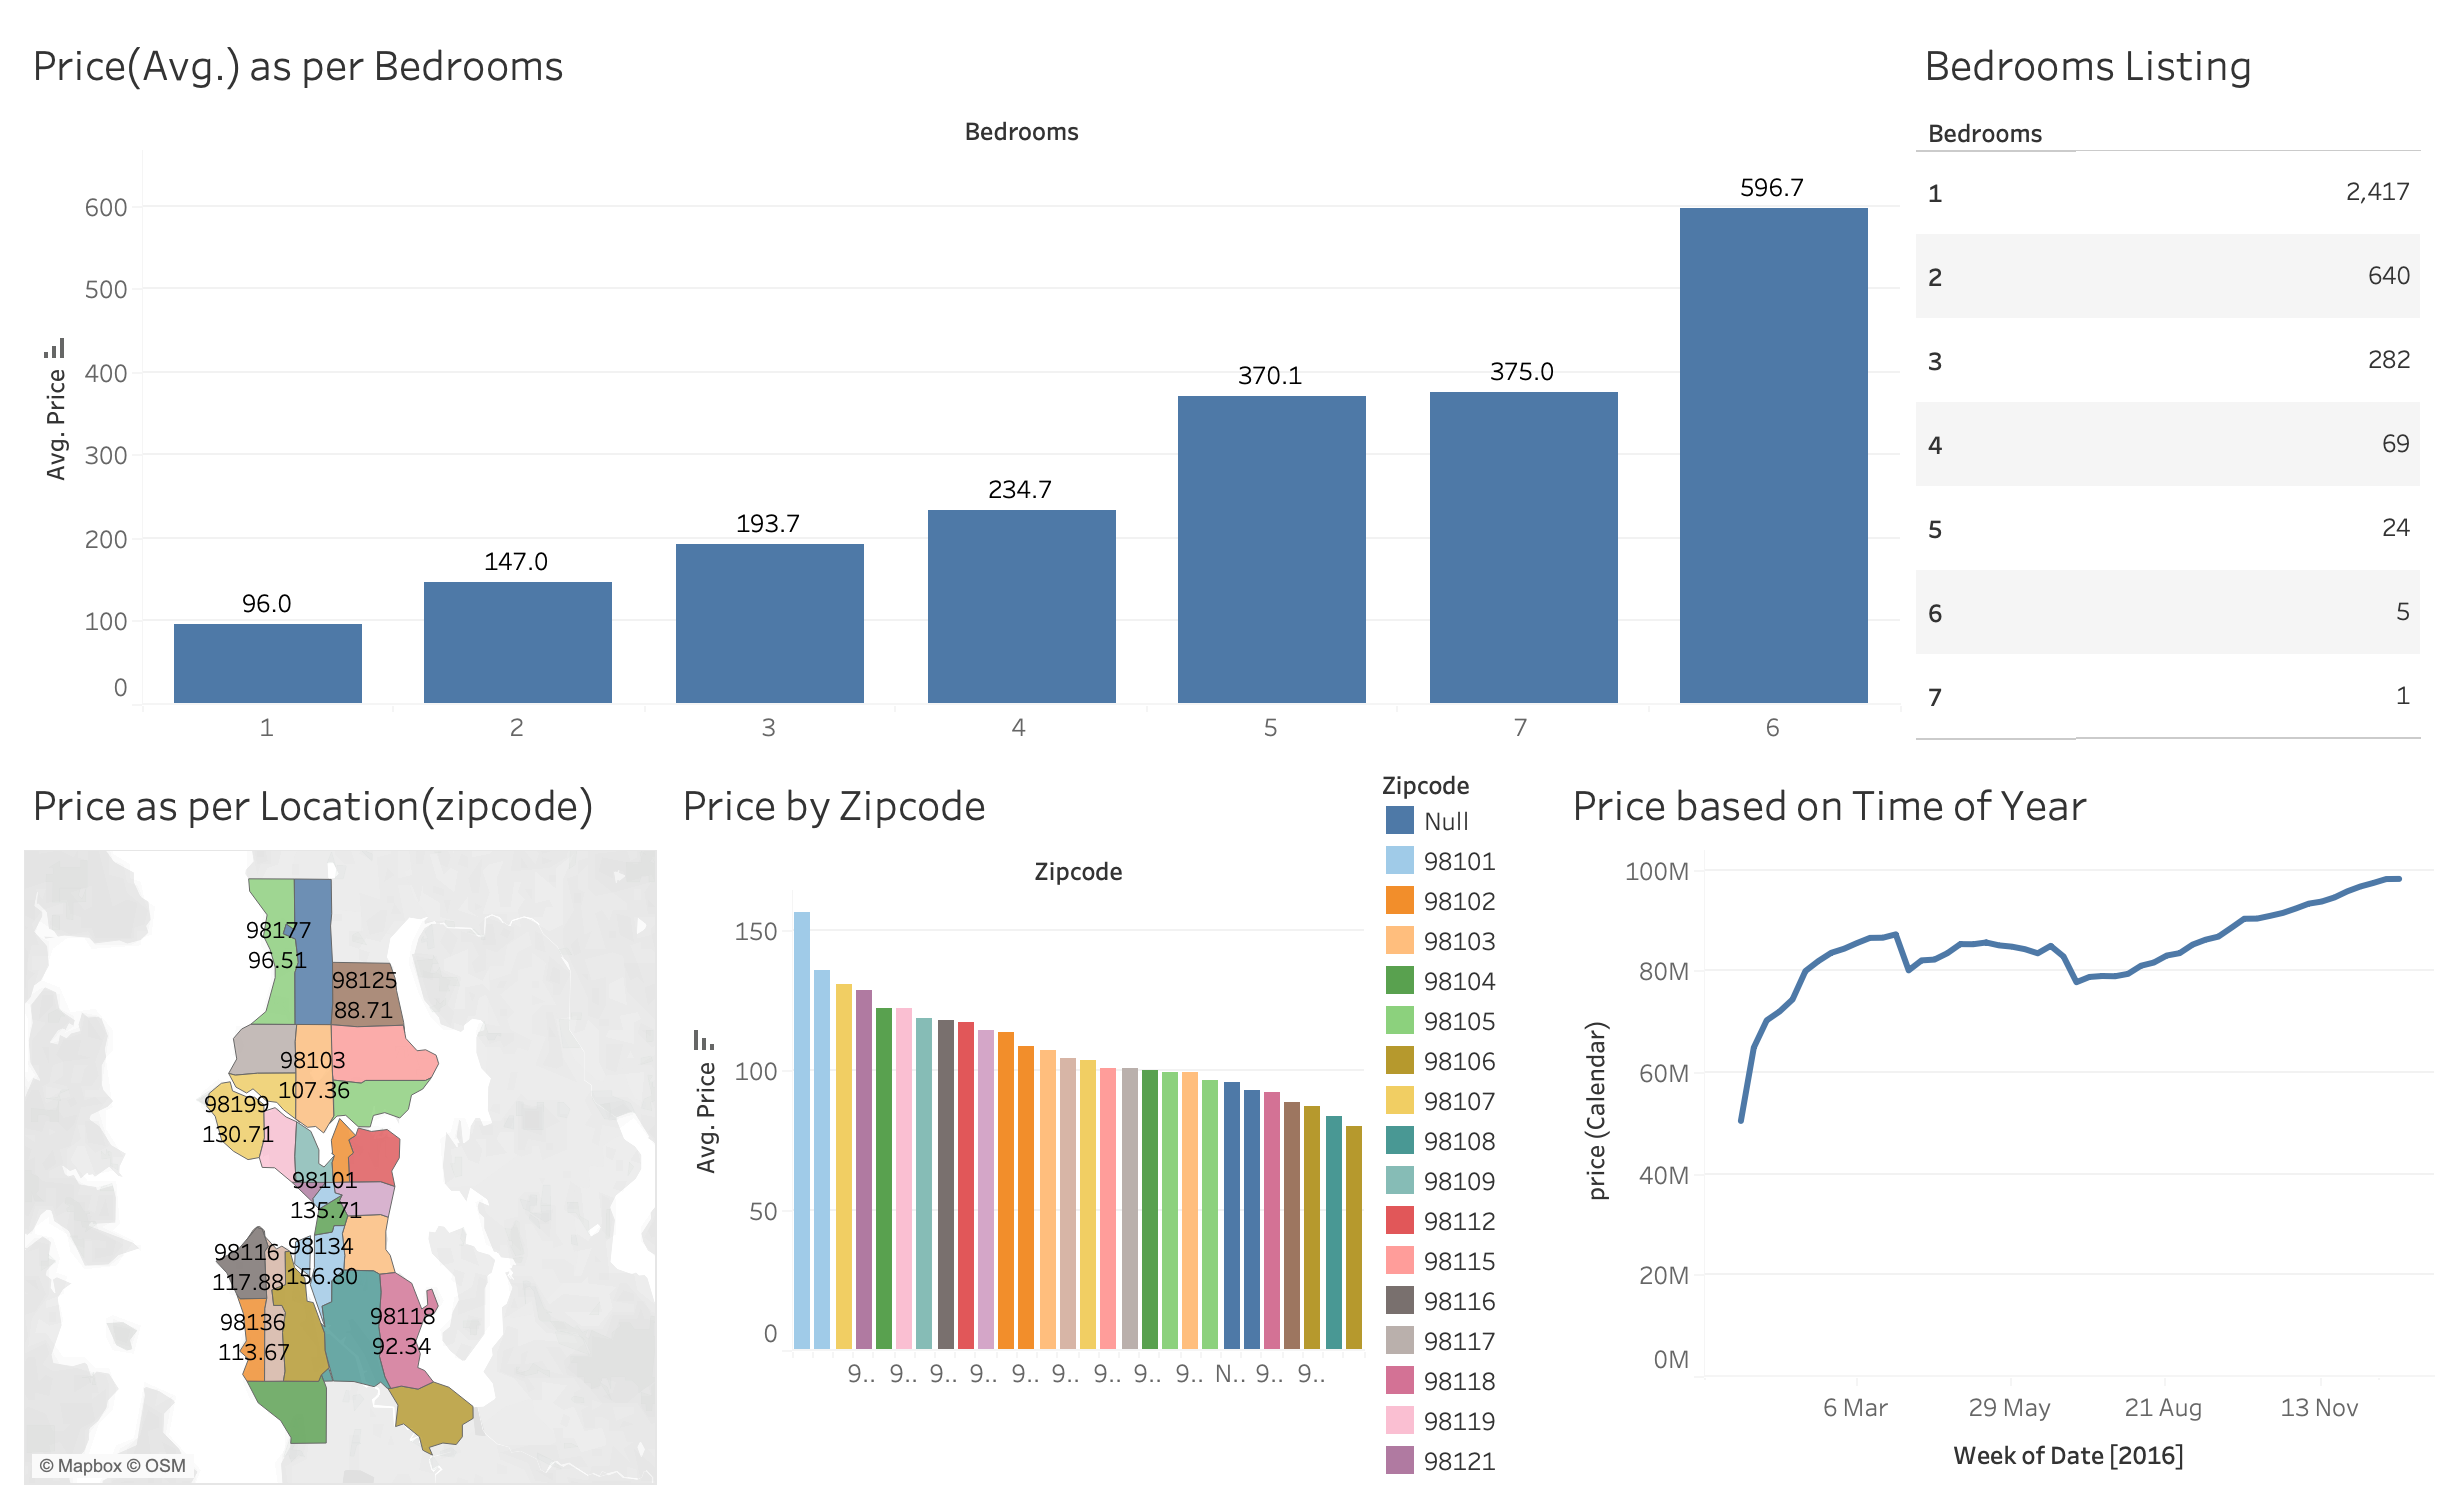

This screenshot's page, from the dashboard's own definition file:
{"tool":"tableau","page":{"name":"Dashboard 1","canvas":[1000,1000],"units":"permille","ordinal":0},"visuals":[{"type":"worksheet","title":"Sheet 4","mark":"Automatic","rows":["price"],"cols":["bedrooms"],"box":[6.5,10.6,769.7,489.4]},{"type":"worksheet","title":"Sheet 5","mark":"Automatic","rows":["bedrooms"],"box":[776.2,10.6,217.2,489.4]},{"type":"worksheet","title":"Sheet 2","mark":"Multipolygon","box":[6.5,500,264.3,489.4]},{"type":"worksheet","title":"Sheet 1","mark":"Automatic","rows":["price"],"cols":["zipcode"],"box":[270.8,500,287.4,489.4]},{"type":"legend","title":"Sheet 1","param":"[federated.1tvsubx00y18b81g0g9pq128md5o].[none:zipcode:ok]","box":[558.2,500,74.9,489.4]},{"type":"worksheet","title":"Sheet 3","mark":"Automatic","rows":["price (Calendar)"],"cols":["date"],"box":[633,500,360.5,489.4]}]}

Visuals, with their boxes on the dashboard's canvas, which has no fixed pixel size, in thousandths of its width and height (x1, y1, x2, y2). These are canvas units, not pixel positions in the 2458x1510 screenshot, which may show the page scaled, cropped or inside an application window:
"Sheet 4" worksheet: BBox(6, 11, 776, 500)
"Sheet 5" worksheet: BBox(776, 11, 993, 500)
"Sheet 2" worksheet (Multipolygon marks): BBox(6, 500, 271, 989)
"Sheet 1" worksheet: BBox(271, 500, 558, 989)
"Sheet 1" legend: BBox(558, 500, 633, 989)
"Sheet 3" worksheet: BBox(633, 500, 994, 989)
